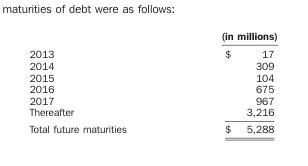table: (28, 29, 276, 134)
table column: (28, 29, 173, 134), (173, 29, 276, 134)
table column header: (28, 29, 276, 44)
table row: (28, 29, 276, 44), (28, 44, 276, 59), (28, 105, 276, 120), (28, 120, 276, 134), (28, 59, 276, 71), (28, 82, 276, 94), (28, 71, 276, 82), (28, 94, 276, 105)
